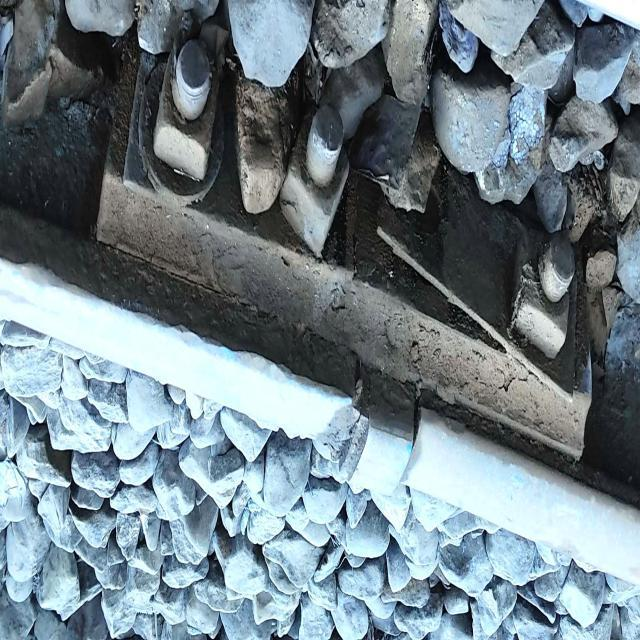Defective Joint: (96, 27, 590, 457)
